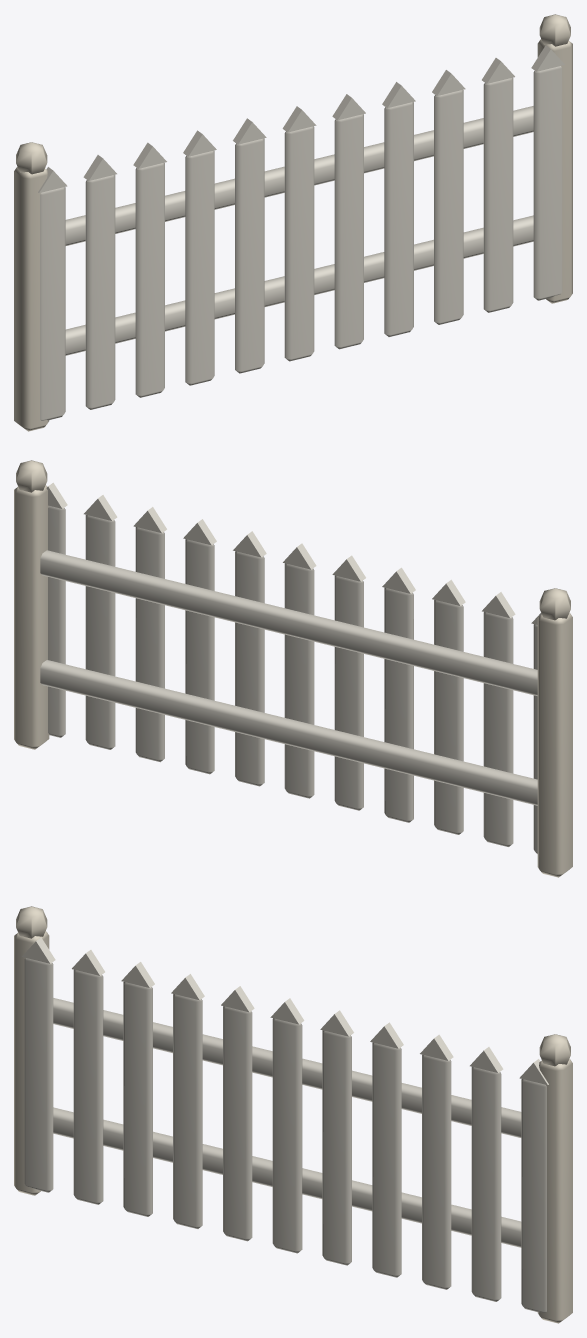
File: picket_fence.glb
3 views of the same model, one above another, from view 1: azimuth 30°, elevation 25°; view 2: azimuth 150°, elevation 25°; view 3: azimuth 330°, elevation 25° (orthographic).
Parts seen in each view (by area): view 1: picket_fence; view 2: picket_fence; view 3: picket_fence.
Part boxes in pixels (<box>): picket_fence: <box>14,14,572,431</box>; picket_fence: <box>14,460,572,877</box>; picket_fence: <box>14,906,572,1323</box>.
Bounding box in the file's own units: 2.12 × 1.03 × 0.1095.
